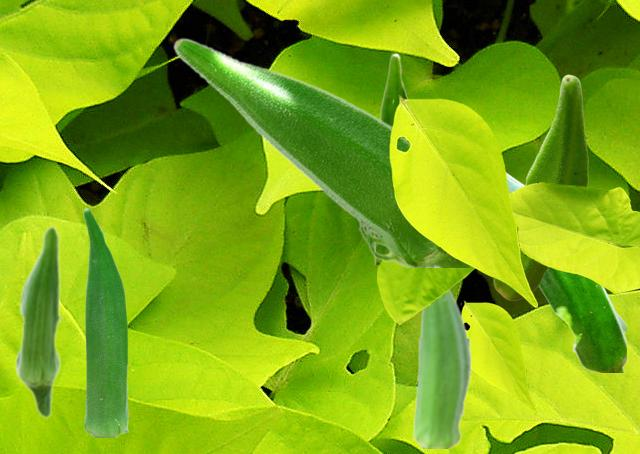okra: (172, 37, 468, 266), (507, 171, 625, 371), (493, 74, 587, 299), (83, 207, 127, 436), (412, 290, 471, 447), (14, 225, 61, 418), (373, 52, 408, 263)
